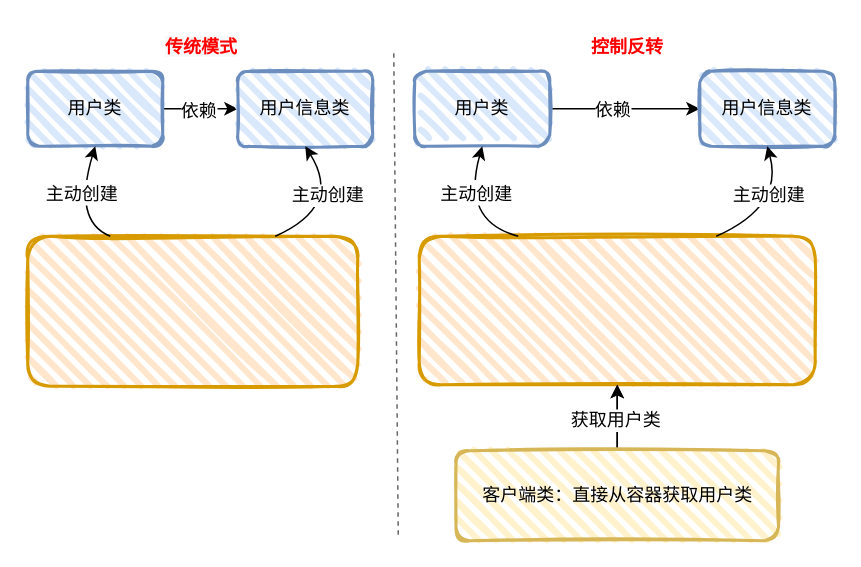
Image size: 861x567. Some labels were removed from this diagram. The shapes that lost their labels are listed below. From the top down, each one's centre as x and y in pixels, then its label:
At point 192,310: "客户端类： 1. 创建用户类 2. 创建用户信息 3. 将用户信息主动注入到用户类".
At point 616,310: "IoC容器： 1. 创建用户类 2. 看用户类是否有依赖对象需要注入 3. 有用户信息类需要注入，创建并将其注入 4. 由容器管理这些对象的生命周期".
